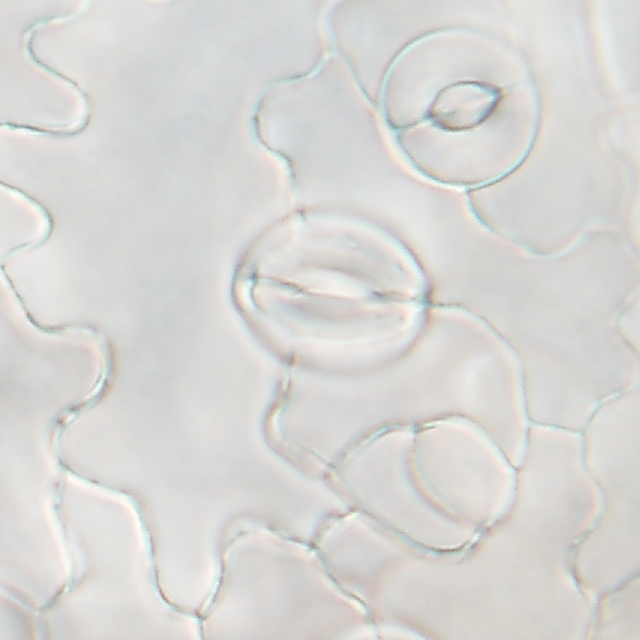center: (273, 266, 390, 320), (426, 82, 500, 130), (613, 321, 640, 325), (361, 630, 404, 632)
stomata-huw1: (234, 211, 430, 373), (379, 29, 540, 189), (335, 623, 430, 639), (617, 290, 639, 356)
